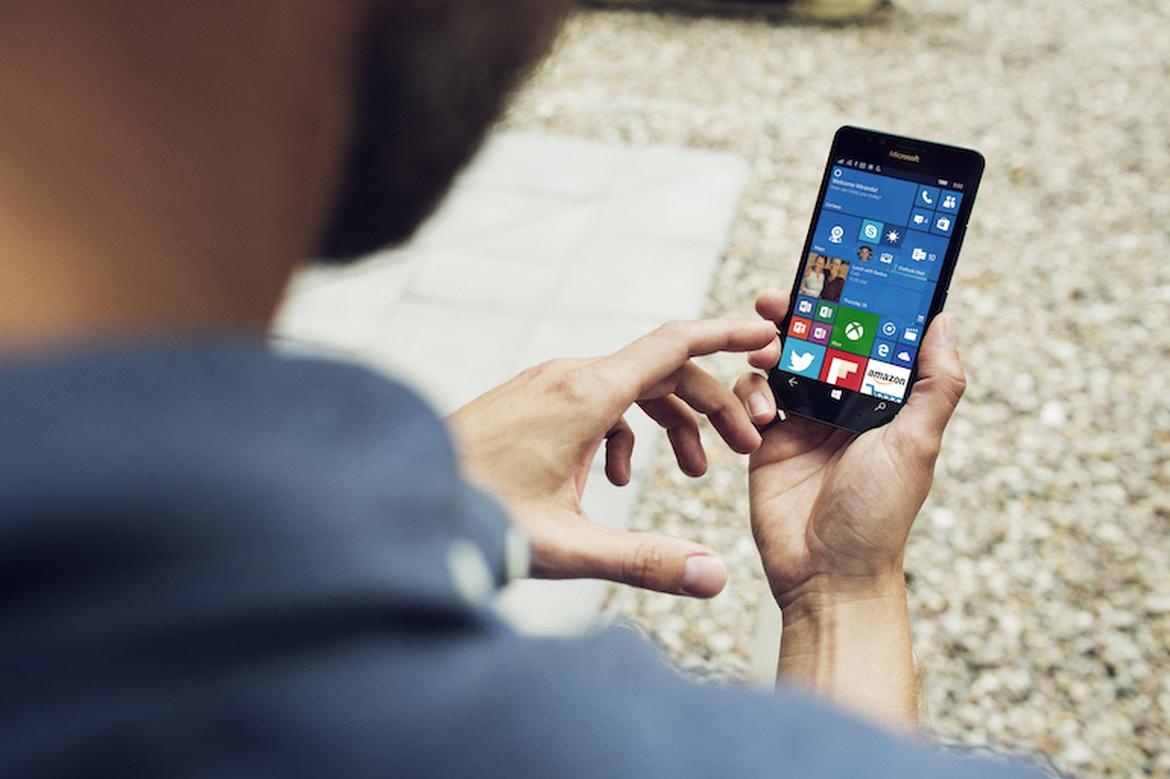smartphone: (766, 124, 987, 433)
